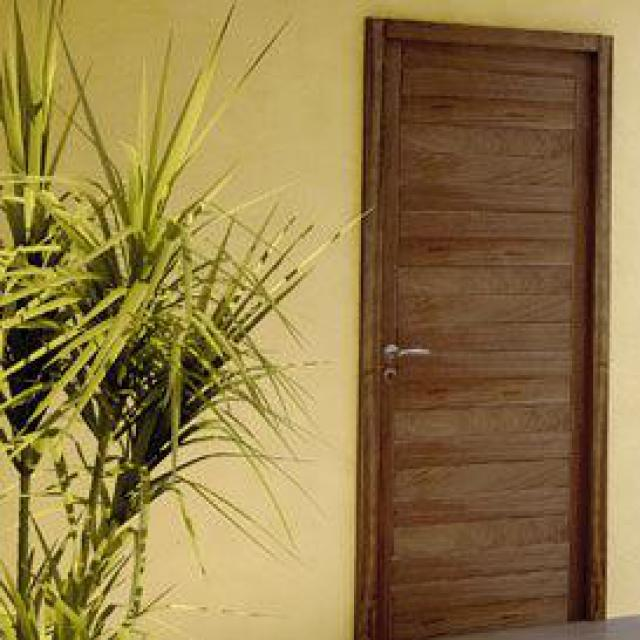close: (349, 7, 626, 638)
